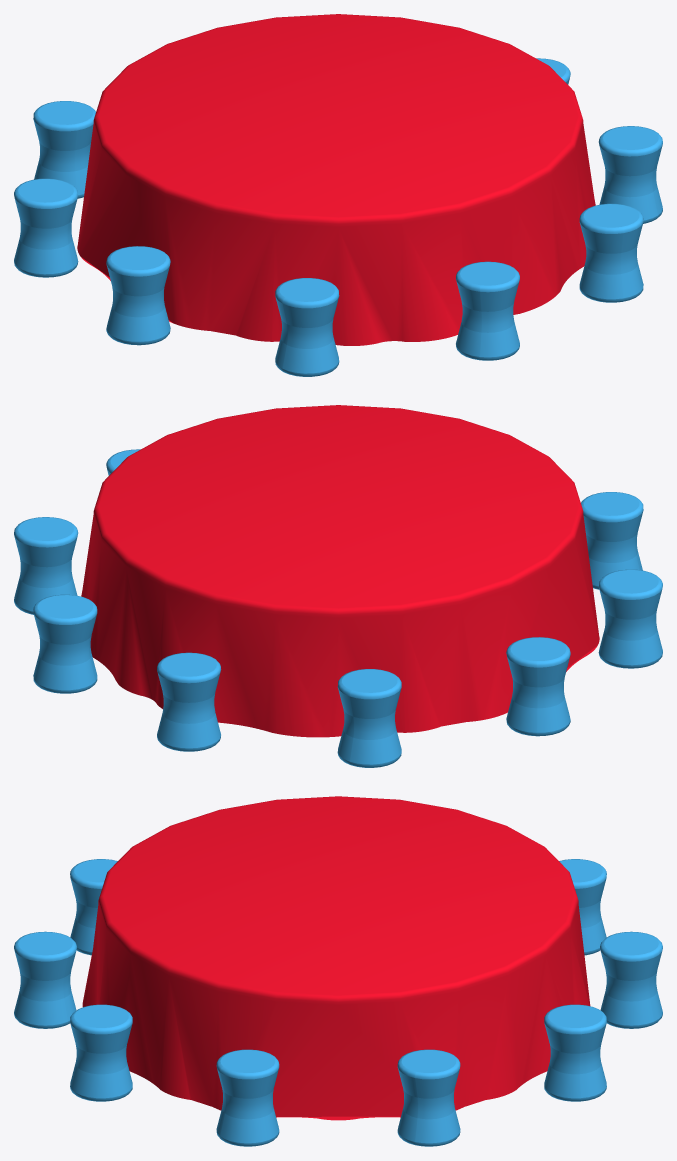
File: Table_FBX.fbx
3 renders of one model, top to bottom at view 1: azimuth 30°, elevation 25°; view 2: azimuth 150°, elevation 25°; view 3: azimuth 270°, elevation 25°, orthographic. The views are drawn at different scales.
Parts seen in each view (by area): view 1: Table, Stool_3, Stool_7, Stool_5, Stool_6, Stool_4, Stool_2, Stool_8; view 2: Table, Stool, Stool_6, Stool_8, Stool_7, Stool_9, Stool_1, Stool_5; view 3: Table, Stool, Stool_3, Stool_1, Stool_2, Stool_4, Stool_9, Stool_8, Stool_5.
Part boxes in pixels (left/top/right/bottom): Table: left=77, top=14, right=595, bottom=345; Stool_3: left=579, top=203, right=643, bottom=302; Stool_7: left=14, top=178, right=78, bottom=277; Stool_5: left=275, top=278, right=339, bottom=376; Stool_6: left=106, top=246, right=170, bottom=345; Stool_4: left=455, top=261, right=519, bottom=360; Stool_2: left=598, top=126, right=662, bottom=223; Stool_8: left=33, top=101, right=95, bottom=198; Table: left=81, top=405, right=599, bottom=737; Stool: left=33, top=594, right=97, bottom=693; Stool_6: left=598, top=569, right=662, bottom=668; Stool_8: left=337, top=669, right=401, bottom=767; Stool_7: left=506, top=637, right=570, bottom=736; Stool_9: left=157, top=652, right=221, bottom=751; Stool_1: left=14, top=517, right=78, bottom=614; Stool_5: left=581, top=492, right=643, bottom=589; Table: left=82, top=796, right=590, bottom=1120; Stool: left=544, top=1004, right=606, bottom=1101; Stool_3: left=70, top=1004, right=132, bottom=1101; Stool_1: left=397, top=1049, right=460, bottom=1146; Stool_2: left=216, top=1049, right=279, bottom=1146; Stool_4: left=14, top=931, right=76, bottom=1028; Stool_9: left=600, top=931, right=662, bottom=1028; Stool_8: left=559, top=859, right=606, bottom=955; Stool_5: left=70, top=859, right=117, bottom=955.
Bounding box in the file's own units: 361 × 77.66 × 378.
